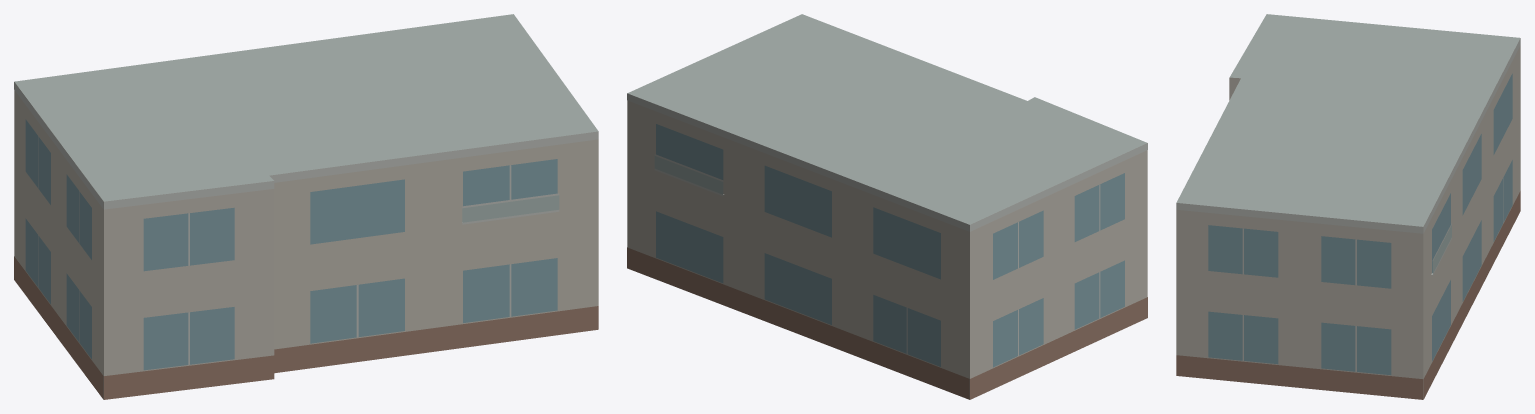
The model's file is survey-upis-32663562.glb.
The picture shows the model from 3 angles, left to right: view 1: azimuth 30°, elevation 25°; view 2: azimuth 150°, elevation 25°; view 3: azimuth 270°, elevation 25°; orthographic projection. The views are drawn at different scales.
Parts seen in each view (by area): view 1: survey-upis-32663562.tmp; view 2: survey-upis-32663562.tmp; view 3: survey-upis-32663562.tmp.
Boxes of the visible parts, x1,y1,x2,y2 form: survey-upis-32663562.tmp: (14,14,598,399); survey-upis-32663562.tmp: (627,14,1147,399); survey-upis-32663562.tmp: (1176,14,1520,399).
Bounding box in the file's own units: 16.11 × 6.1 × 11.01.
